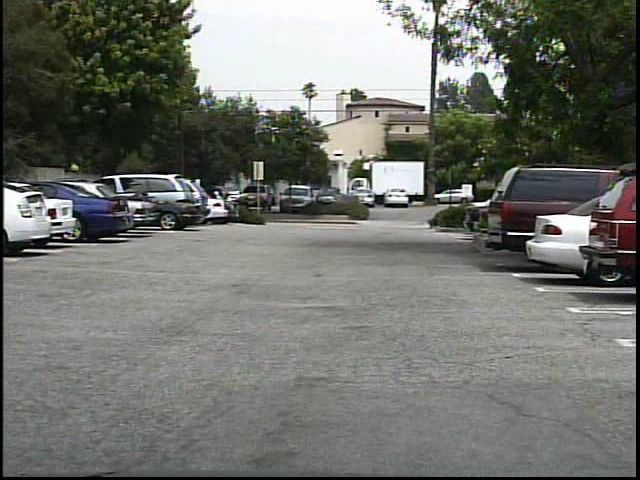person: (210, 186, 227, 219), (223, 191, 237, 221), (220, 190, 232, 219)
